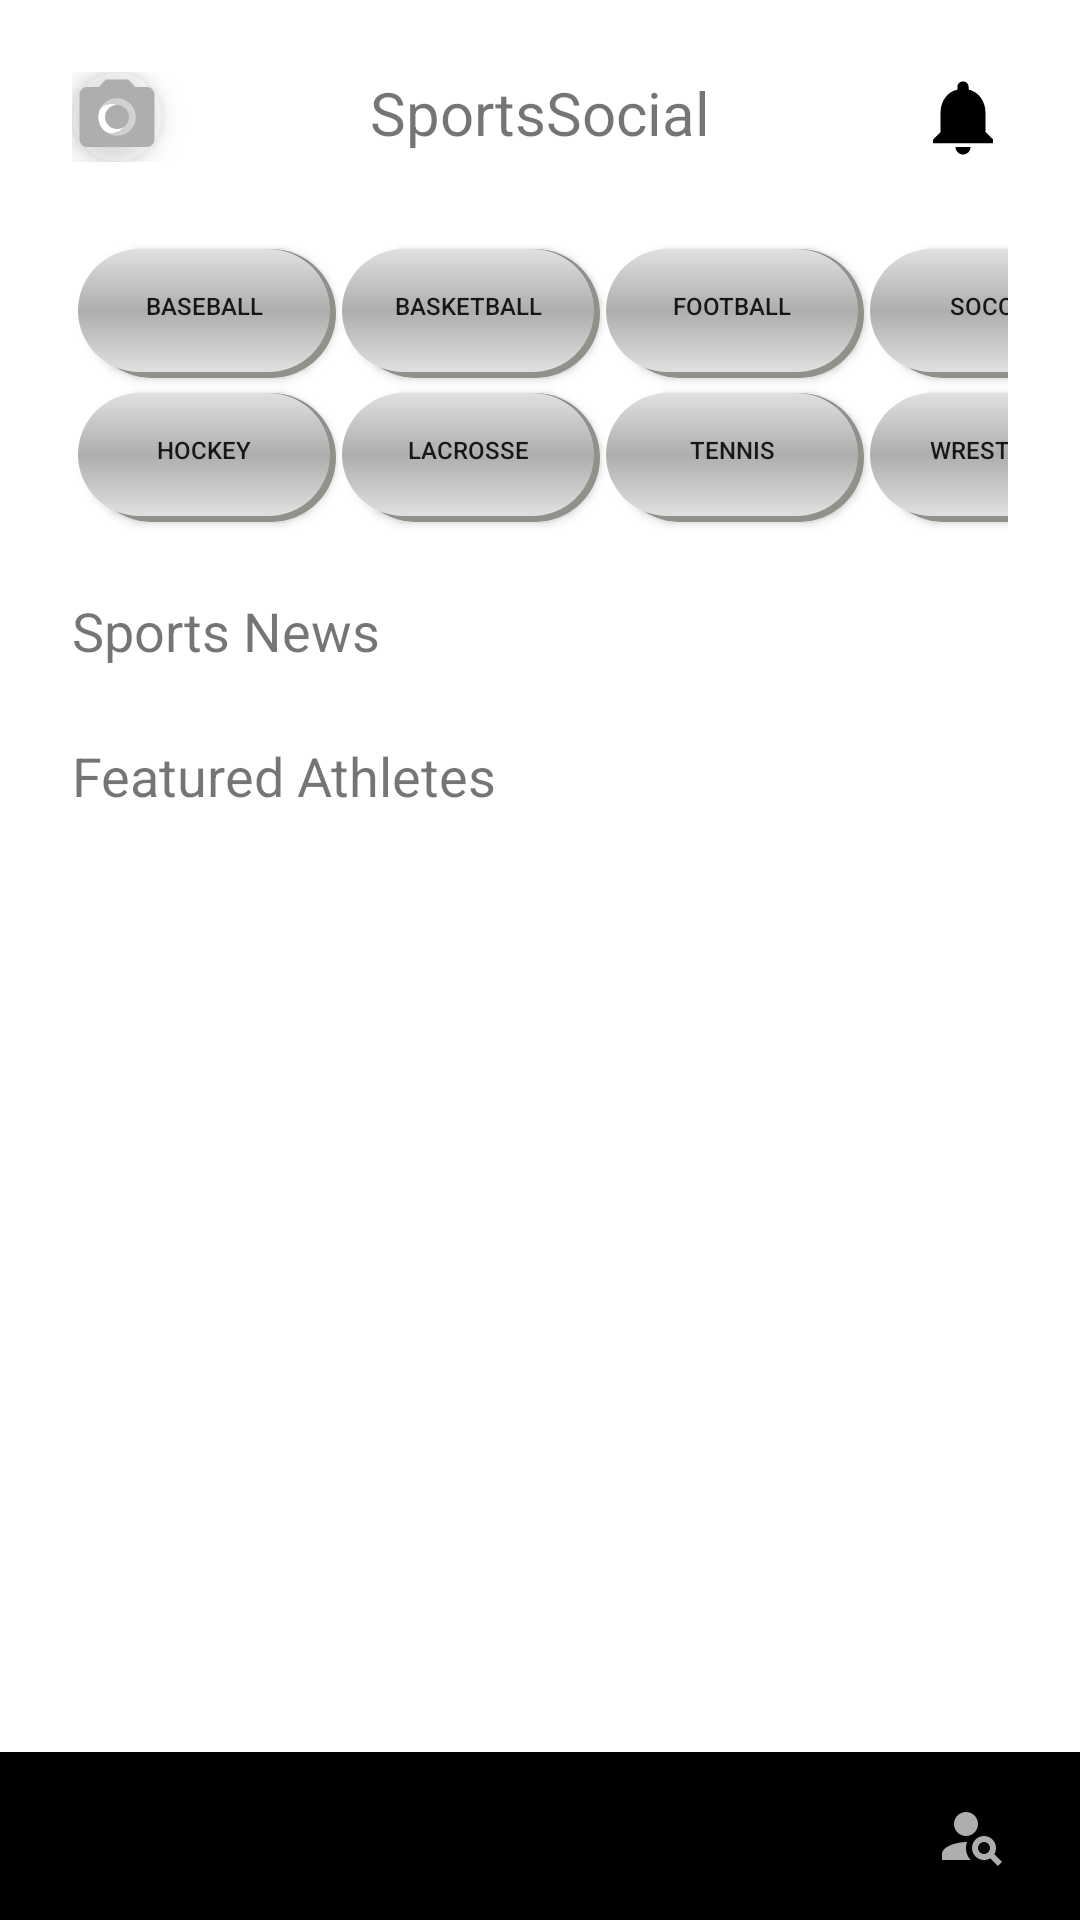

Named icons in this screenshot (1080×1920) and their centers, (x=x, y=y):
notifications: (x=963, y=118)
photo camera: (x=113, y=117)
